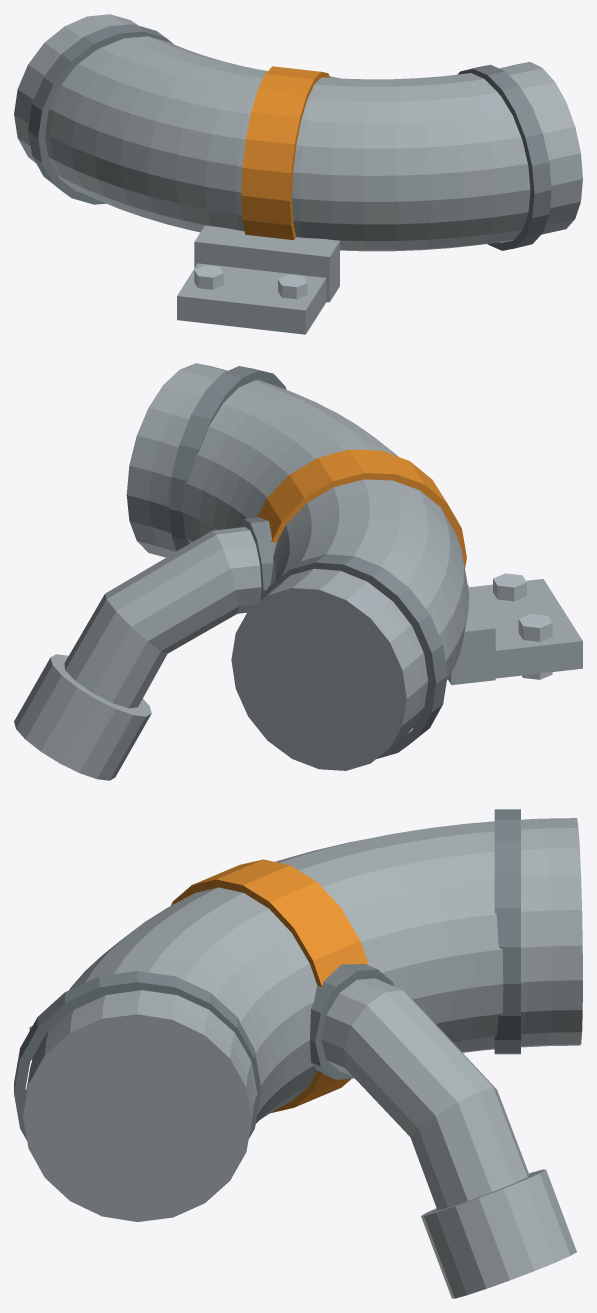
File: body.obj
3 renders of one model, top to bottom at view 1: azimuth 30°, elevation 25°; view 2: azimuth 150°, elevation 25°; view 3: azimuth 270°, elevation 25°, orthographic. The views are drawn at different scales.
Size of the model in its own units: 0.6451 by 0.4081 by 0.6451.
